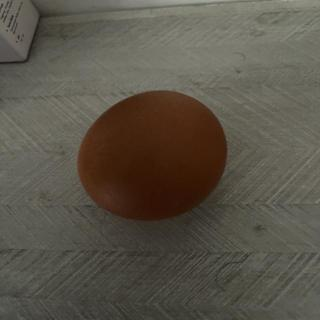Telur: (77, 88, 230, 225)
